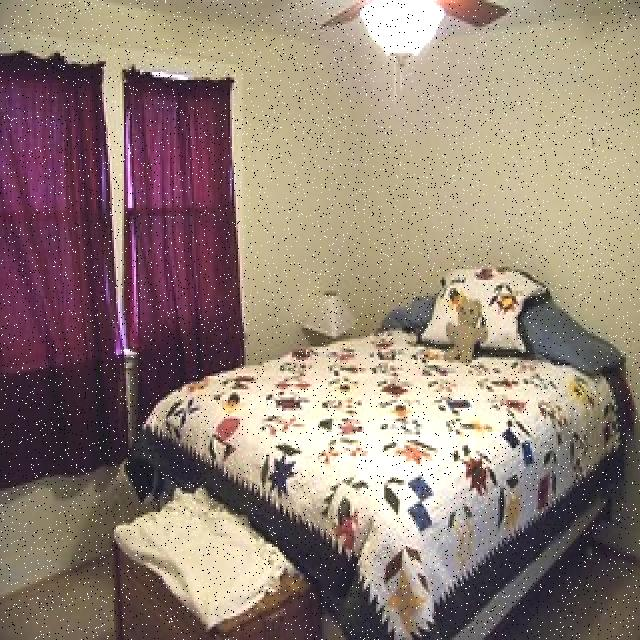bed: (131, 256, 632, 640)
